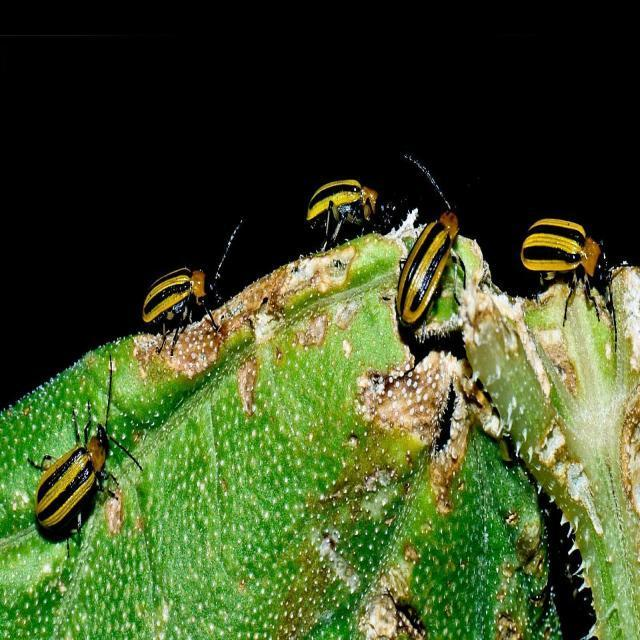trips: (380, 177, 478, 356), (30, 385, 121, 537), (518, 198, 630, 310), (142, 248, 226, 332), (304, 171, 385, 246)
